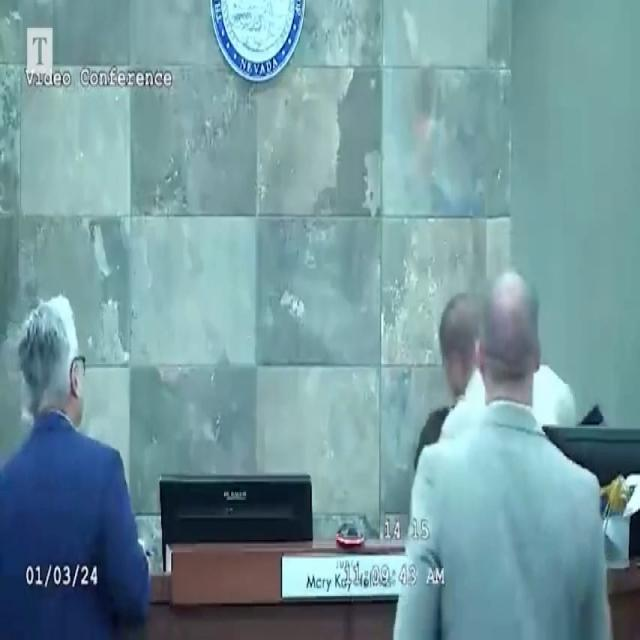fight: (405, 277, 633, 444)
non-fight: (383, 271, 634, 640), (0, 281, 157, 640)
